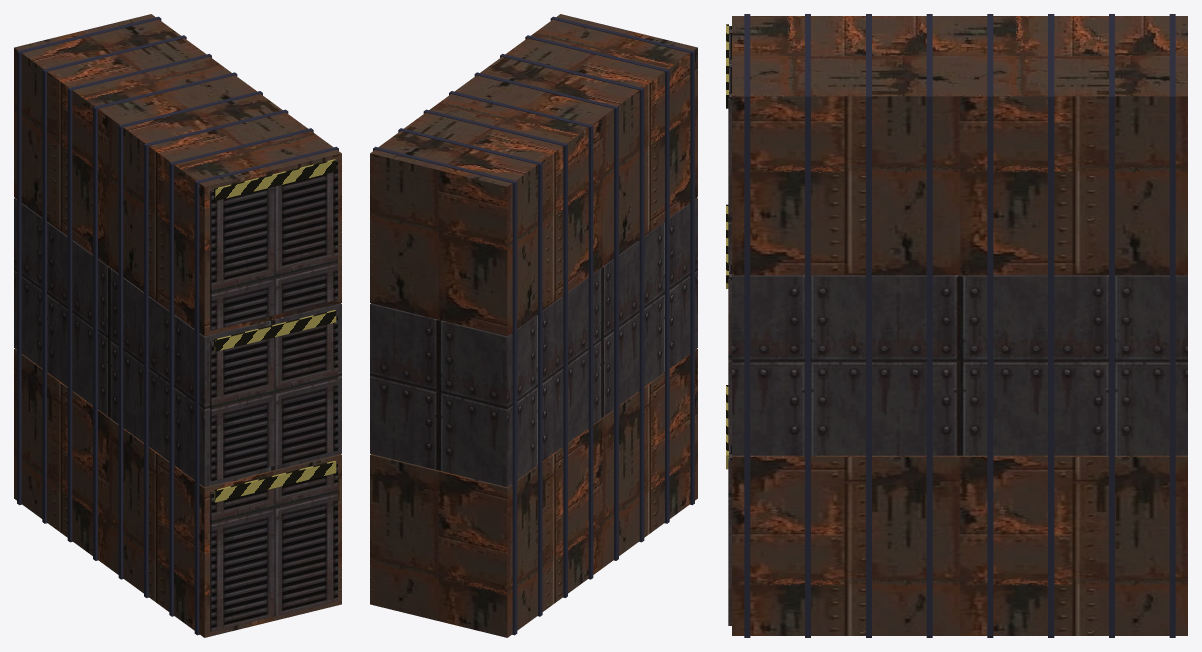
File: prop_container_stack.glb
3 views of the same model, side by side, from view 1: azimuth 30°, elevation 25°; view 2: azimuth 150°, elevation 25°; view 3: azimuth 270°, elevation 25° (orthographic). The views are drawn at different scales.
Parts seen in each view (by area): view 1: prop_container_stack; view 2: prop_container_stack; view 3: prop_container_stack.
Boxes of the visible parts, left/top/right/bottom form: prop_container_stack: left=14, top=14, right=341, bottom=637; prop_container_stack: left=370, top=14, right=697, bottom=637; prop_container_stack: left=726, top=14, right=1187, bottom=637.
Size of the model in its own units: 2.58 by 7.86 by 6.08.
5 materials, 4 textured.
